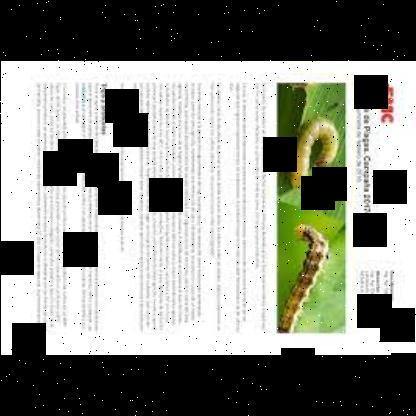oruga: (276, 220, 332, 336), (284, 115, 340, 186)
